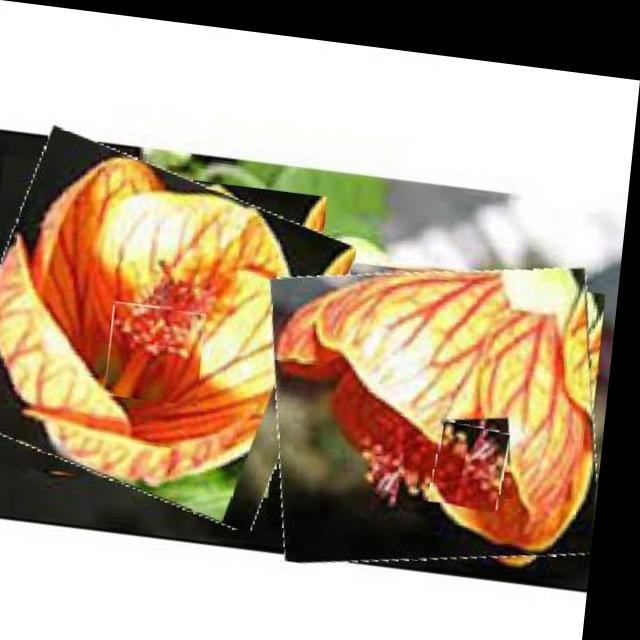Flower: (0, 136, 350, 514), (264, 235, 623, 572), (114, 298, 214, 403), (440, 408, 519, 499)
